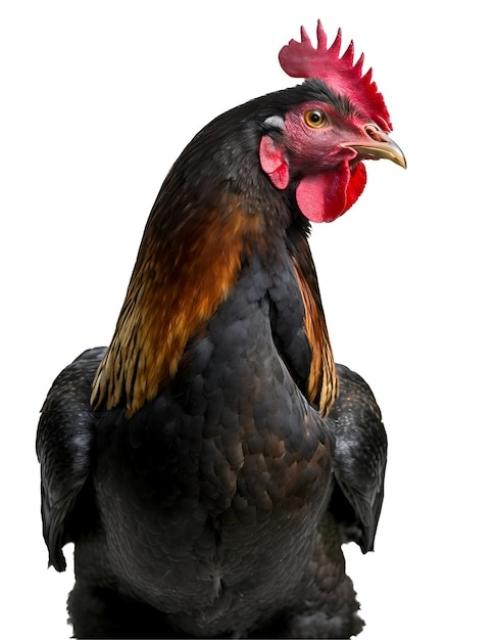Chicken: (36, 17, 409, 640)
